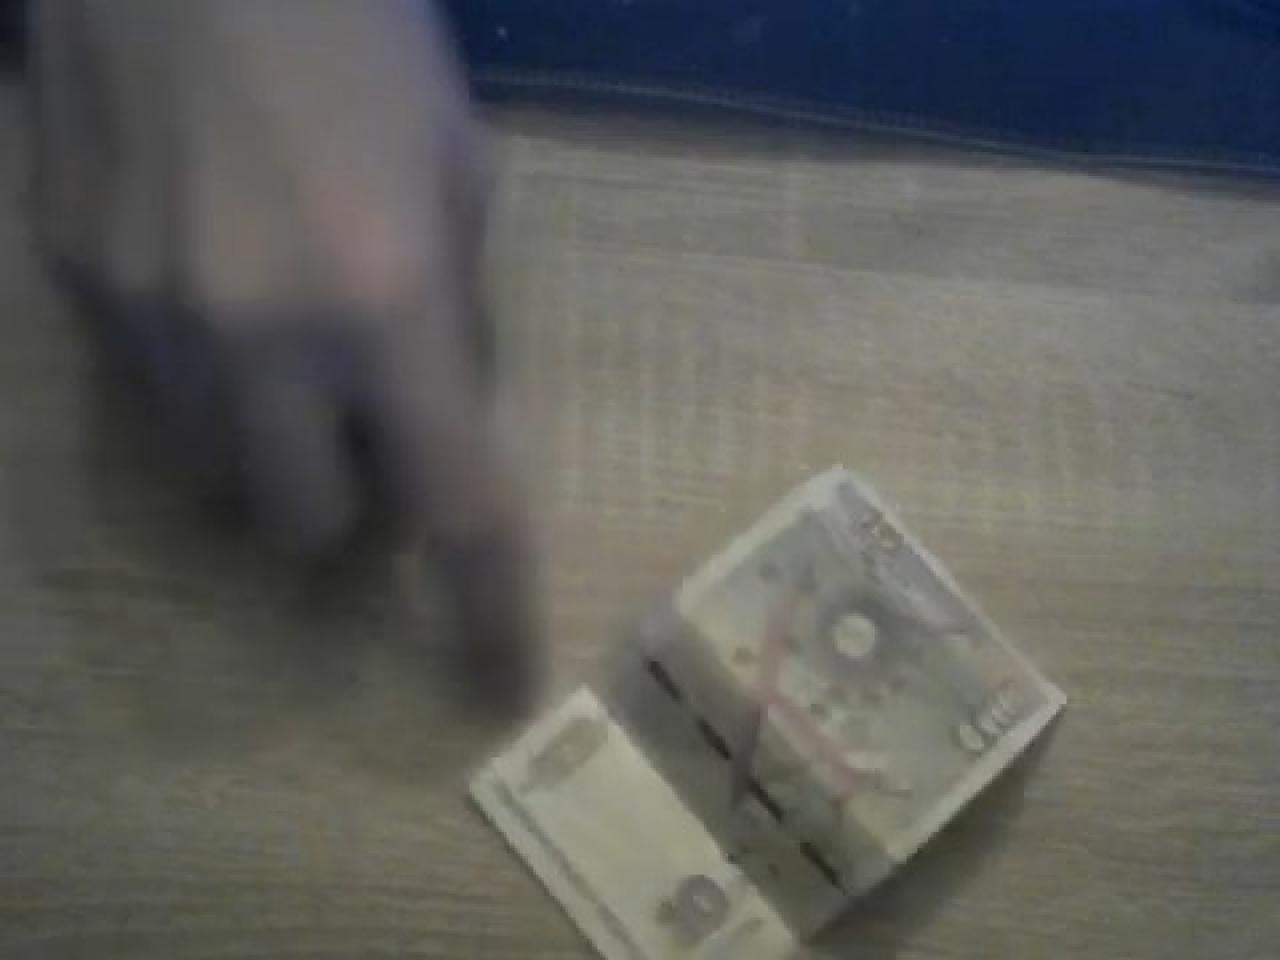10leva: (464, 467, 1069, 960)
